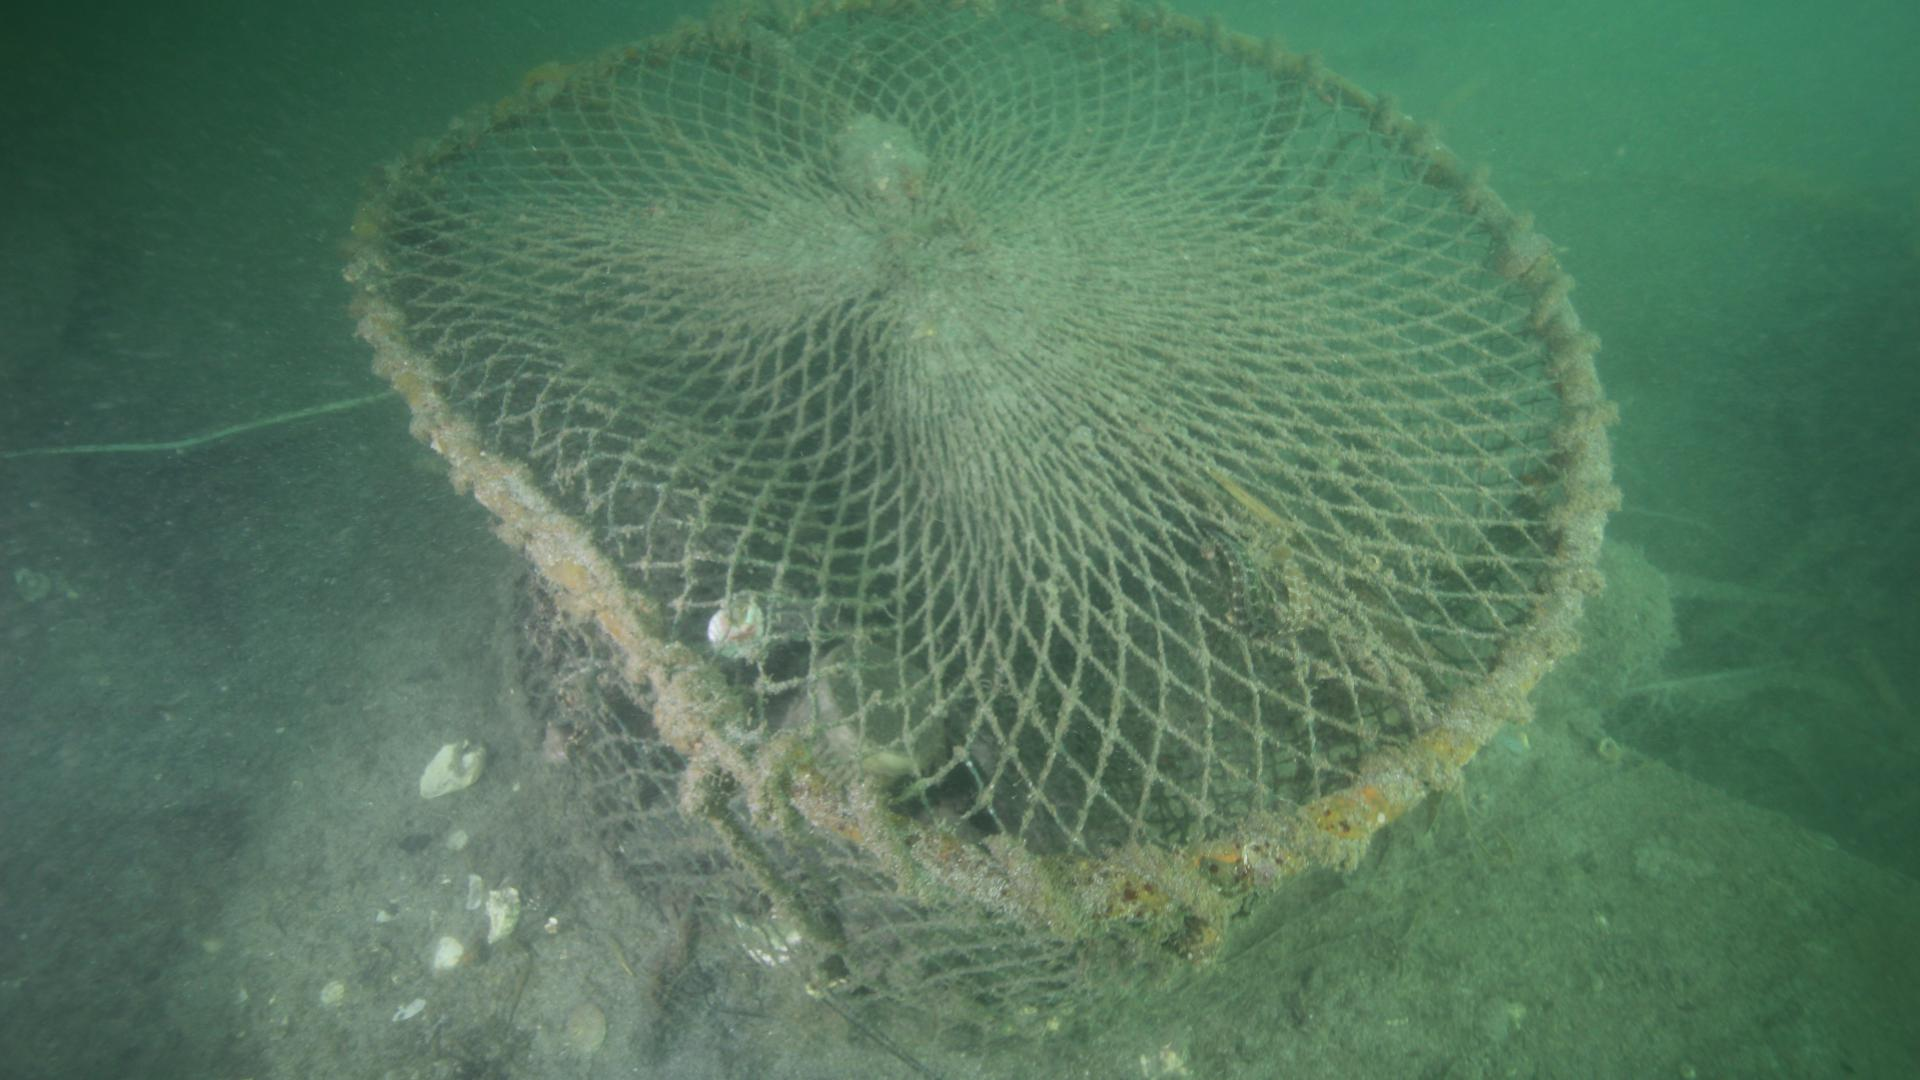circular fish trap: (336, 3, 1617, 1029)
